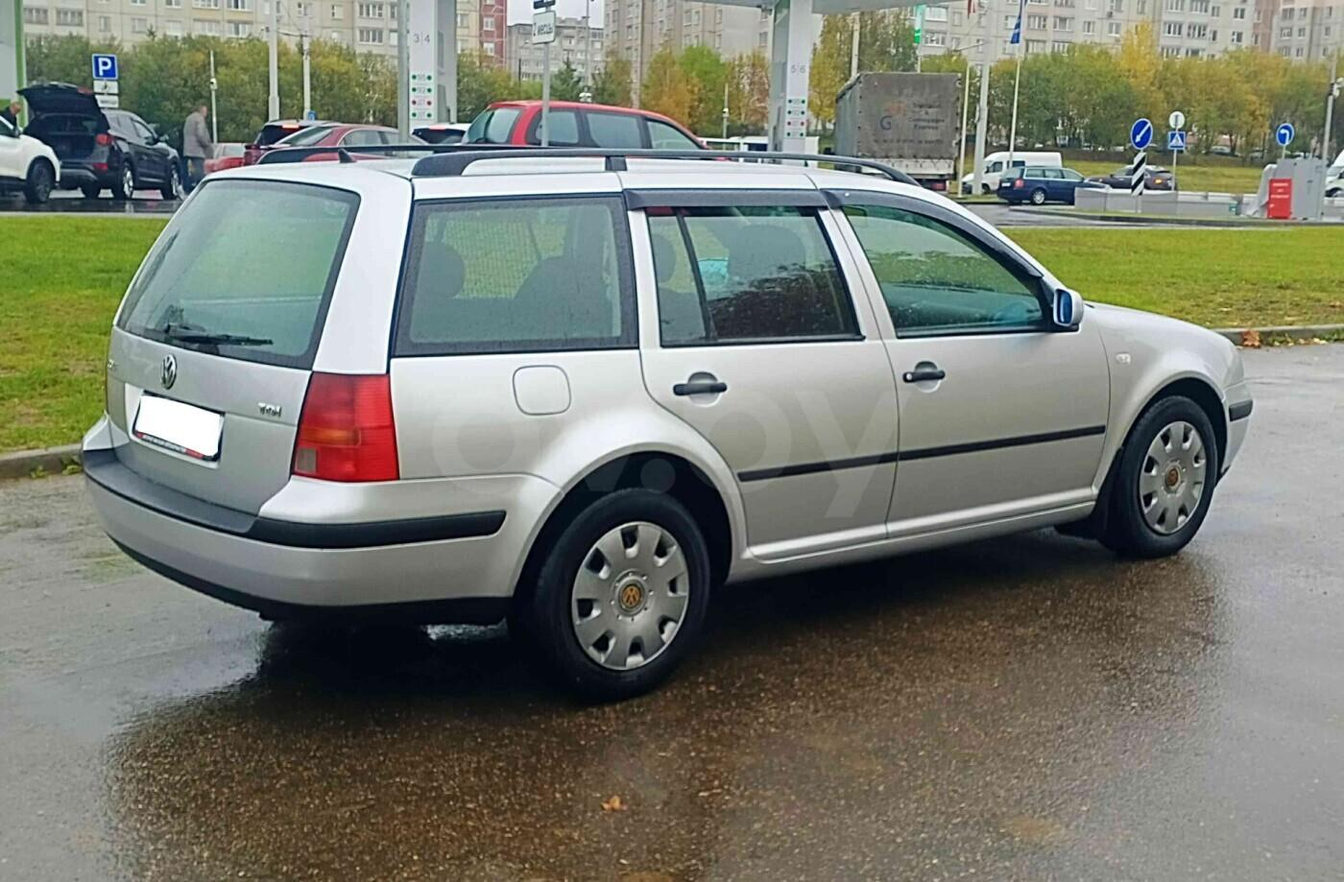Golf_1997-2006: (78, 160, 1254, 696)
